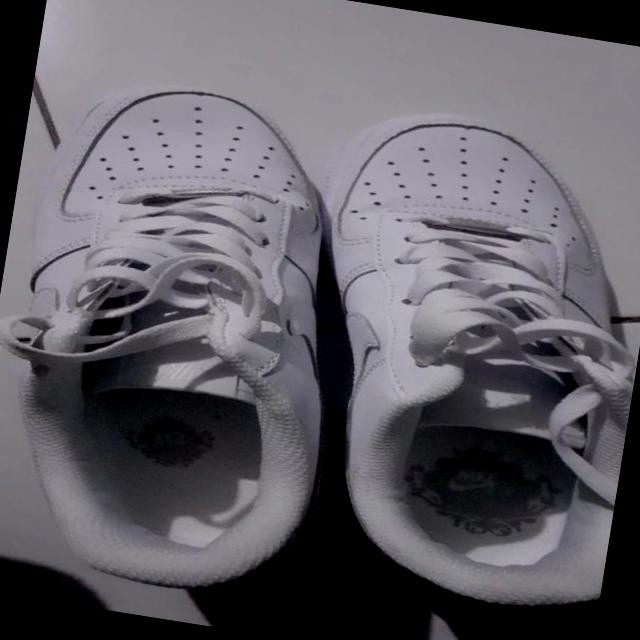nike_fake_airforce: (0, 60, 380, 606), (273, 99, 640, 618)
